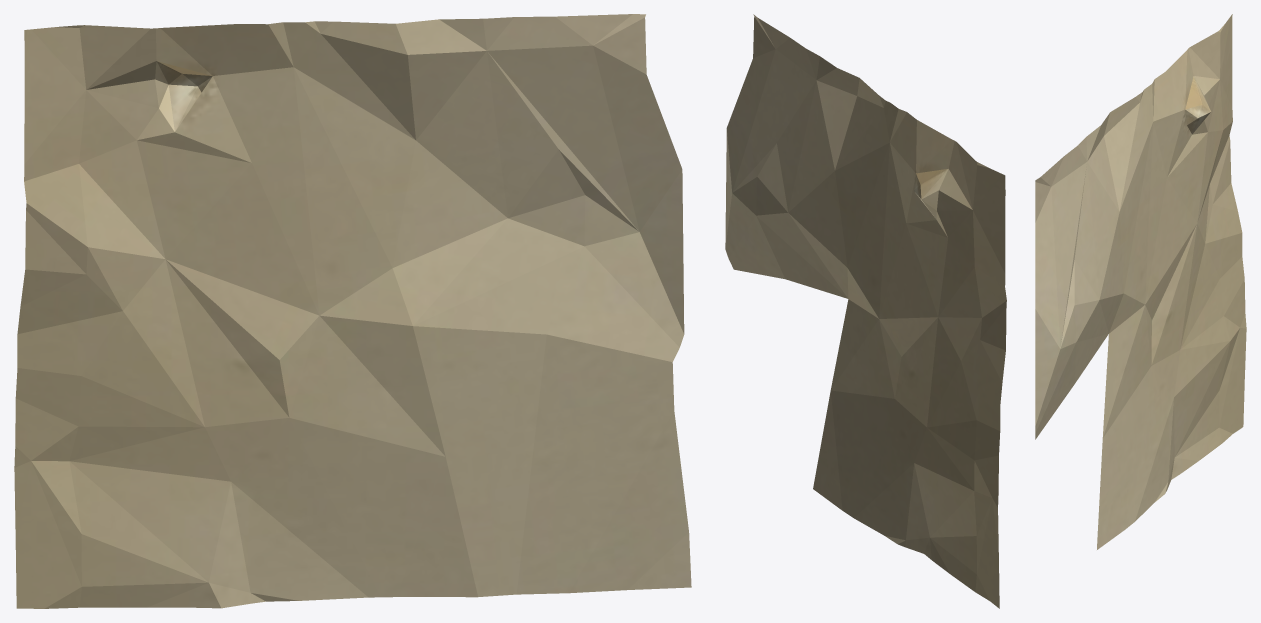
3 views of the same model, side by side, from view 1: azimuth 30°, elevation 25°; view 2: azimuth 150°, elevation 25°; view 3: azimuth 270°, elevation 25° (orthographic). The views are drawn at different scales.
Bounding box in the file's own units: 0.7915 × 0.8374 × 0.3882.
Materials: 2 (2 with a texture image).
